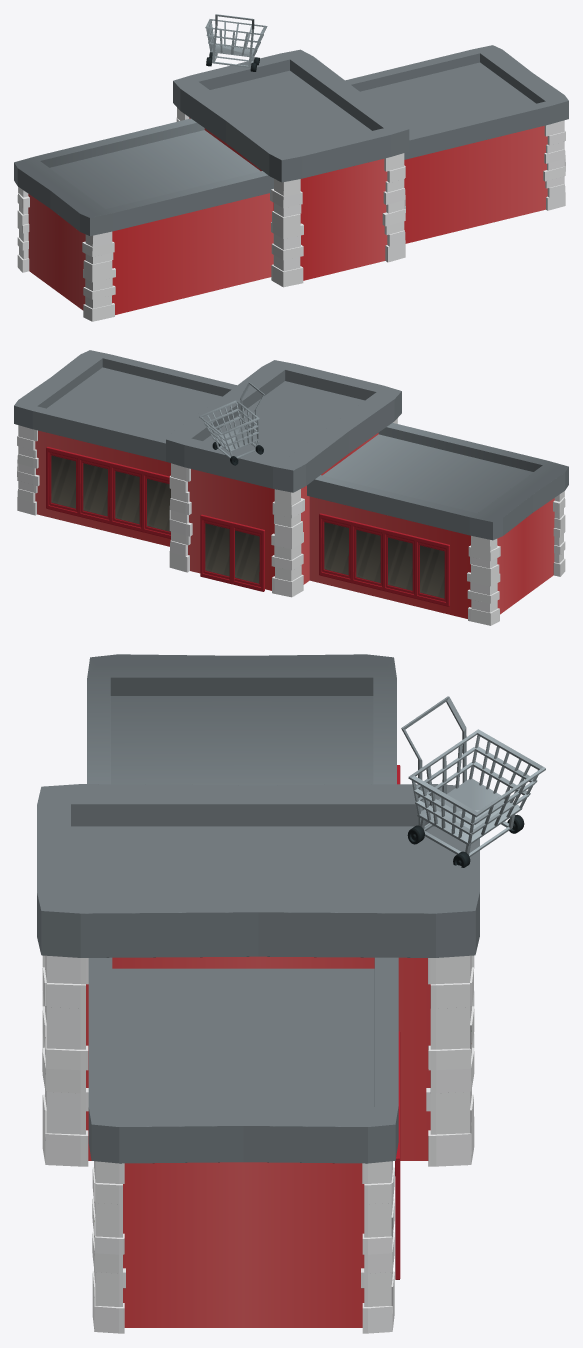
Rendered from SUPERMERCADO.fbx.
3 renders of one model, top to bottom at view 1: azimuth 30°, elevation 25°; view 2: azimuth 150°, elevation 25°; view 3: azimuth 270°, elevation 25°, orthographic. The views are drawn at different scales.
Visible parts, largest first — view 1: Cube.029; view 2: Cube.029; view 3: Cube.029.
Part boxes in pixels (x1=…): Cube.029: x1=14, y1=14, x2=568, y2=321; Cube.029: x1=14, y1=350, x2=568, y2=625; Cube.029: x1=37, y1=654, x2=545, y2=1333.
Bounding box in the file's own units: 5334 × 2428 × 2029.
3 materials, 3 textured.
